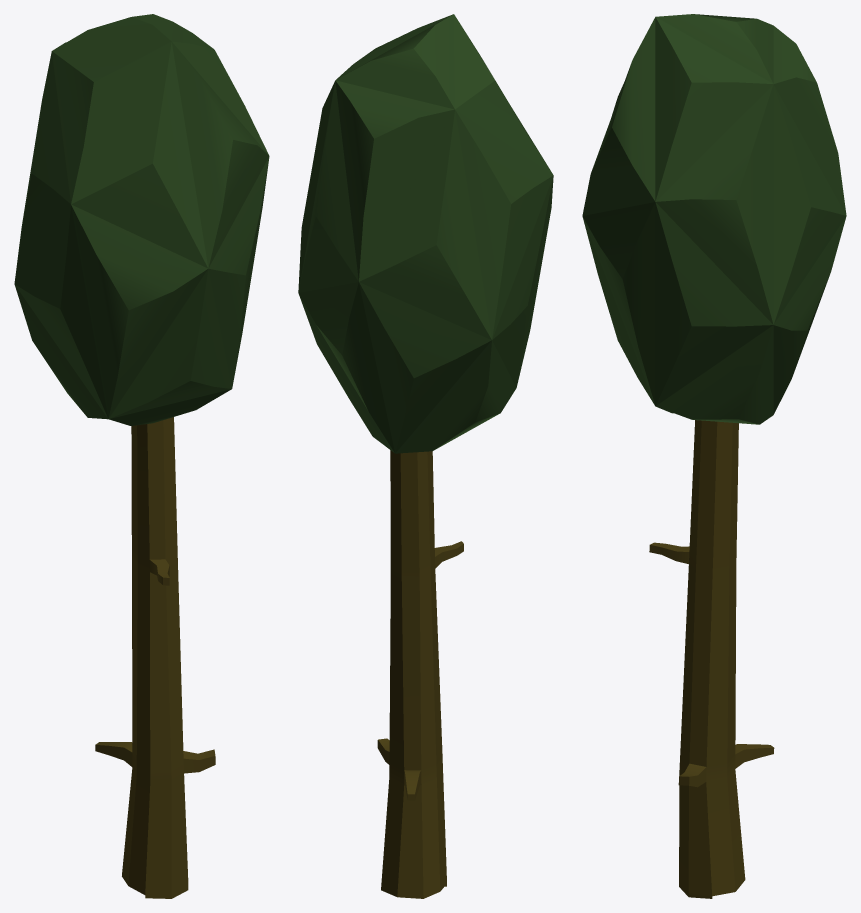
File: ArbolCortadoPuente.fbx
3 views of the same model, side by side, from view 1: azimuth 30°, elevation 25°; view 2: azimuth 150°, elevation 25°; view 3: azimuth 270°, elevation 25° (orthographic).
Parts seen in each view (by area): view 1: Arbol_Cortado_Puente; view 2: Arbol_Cortado_Puente; view 3: Arbol_Cortado_Puente.
Boxes of the visible parts, bbox=[...] form: Arbol_Cortado_Puente: bbox=[14, 14, 269, 898]; Arbol_Cortado_Puente: bbox=[298, 14, 553, 898]; Arbol_Cortado_Puente: bbox=[582, 14, 846, 898].
Size of the model in its own units: 17.45 by 71.6 by 19.77.
